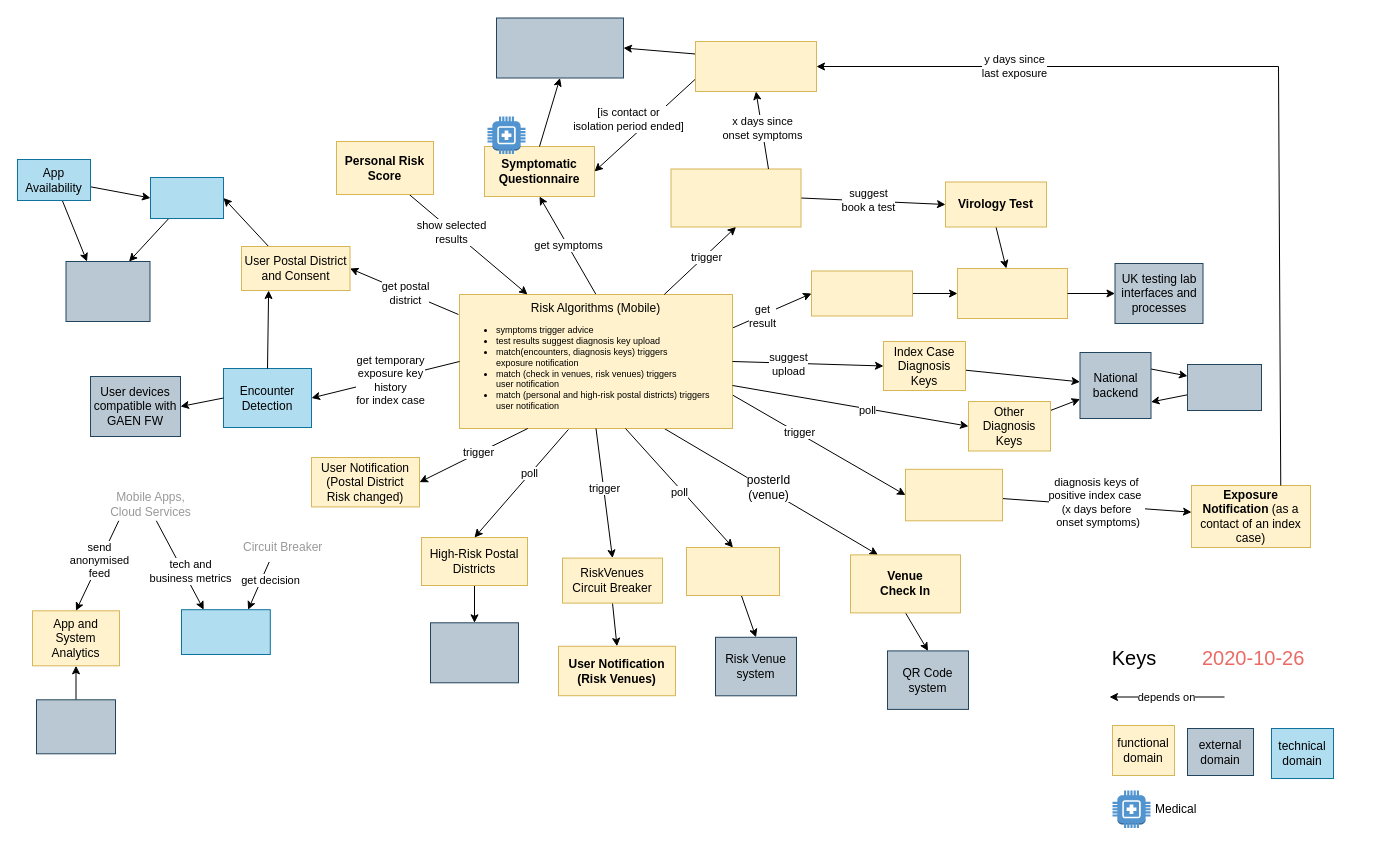
Image size: 1397x845. Some labels were removed from this diagram. The shapes that lost their labels are listed below. From the top down, each one's centre as x and y in pixels, then its label:
point 560,47: UK health authorities and policy
point 755,66: Isolation Advice
point 187,197: Installation
point 735,197: Configurable Index Case Advice
point 107,291: Apple/Google App Stores
point 861,293: Test Result
point 1012,293: Virology Testing
point 1224,387: Federated Servers
point 953,494: Exposure Notification Circuit Breaker
point 733,571: Identified Risk Venues
point 225,631: Control Panel
point 474,652: UK data sources and analytics
point 76,726: AAE
